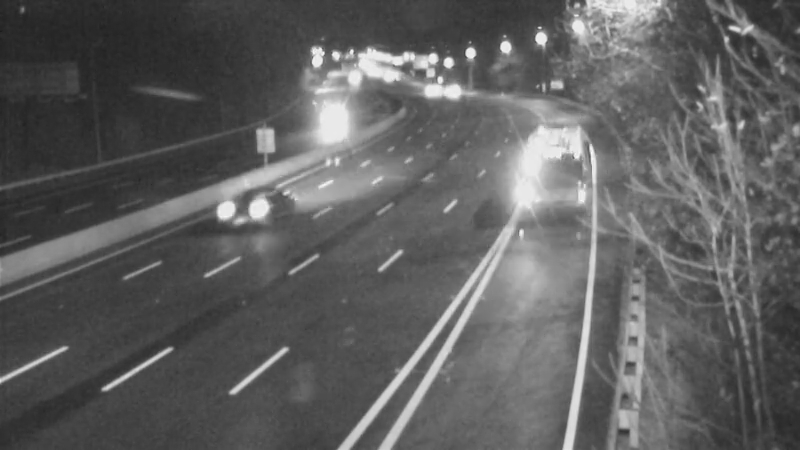vehicle: (512, 116, 592, 196), (213, 166, 293, 246), (401, 65, 451, 115), (423, 64, 473, 114), (303, 104, 353, 154)
